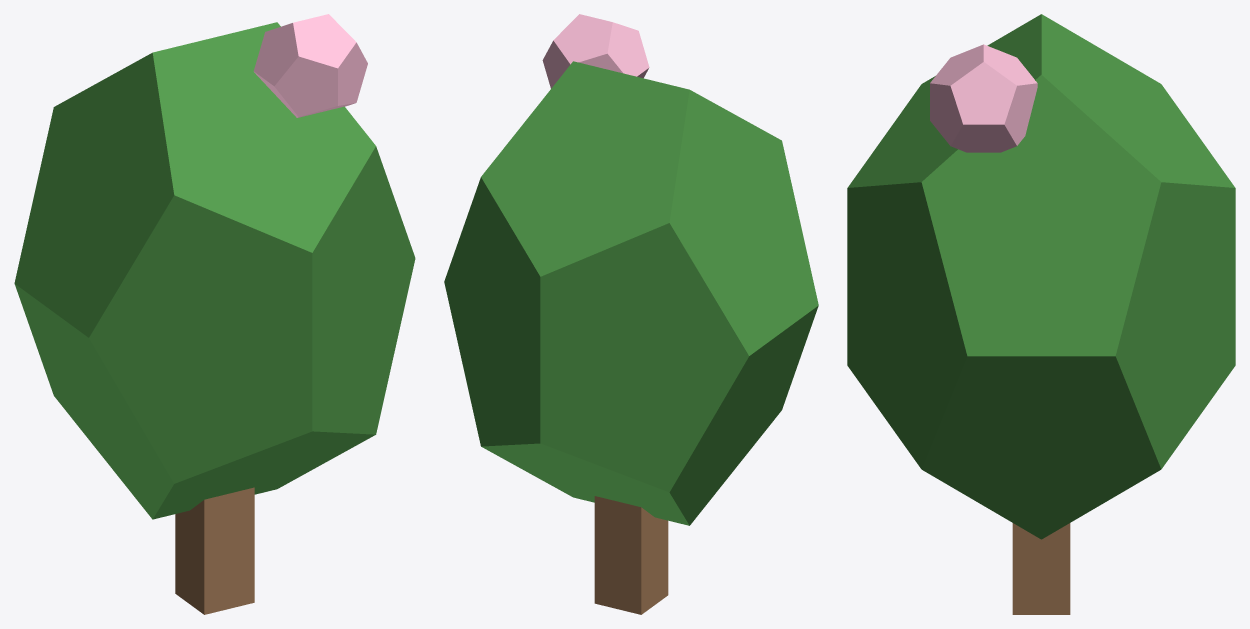
The model's file is wall.glb.
3 renders of one model, left to right at view 1: azimuth 30°, elevation 25°; view 2: azimuth 150°, elevation 25°; view 3: azimuth 270°, elevation 25°, orthographic. The views are drawn at different scales.
Parts seen in each view (by area): view 1: gardens wall; view 2: gardens wall; view 3: gardens wall.
Boxes of the visible parts, box(x1,y1,x2,y2) form: gardens wall: box(14, 14, 415, 614); gardens wall: box(444, 14, 818, 614); gardens wall: box(847, 14, 1235, 614).
Bounding box in the file's own units: 1.95 × 3.34 × 2.02.
